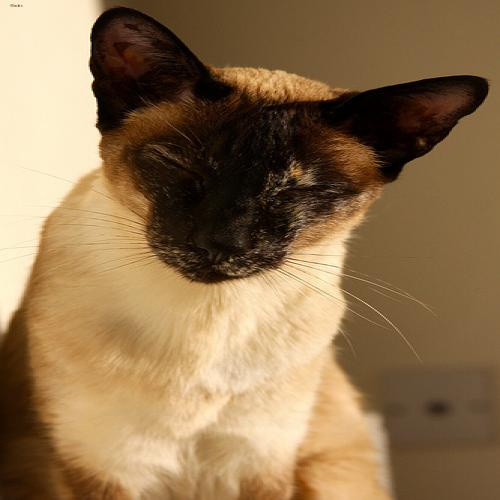siamese: (77, 1, 496, 288)
